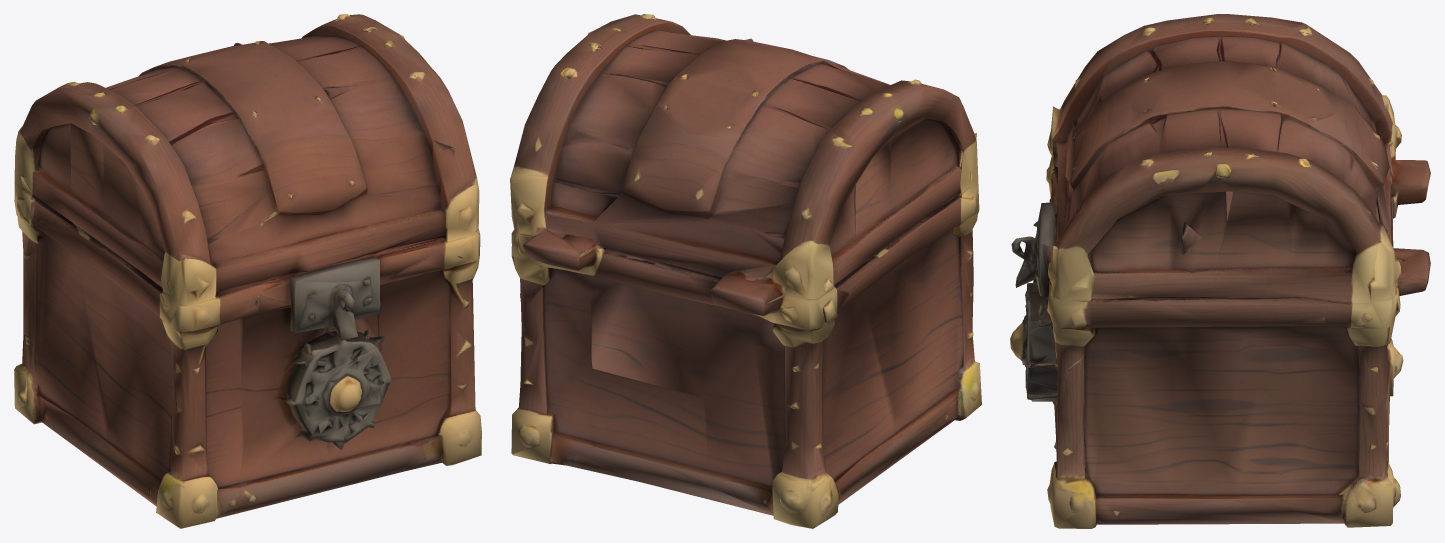
The model's file is chest.glb.
3 views of the same model, side by side, from view 1: azimuth 30°, elevation 25°; view 2: azimuth 150°, elevation 25°; view 3: azimuth 270°, elevation 25° (orthographic).
Bounding box in the file's own units: 1.76 × 1.95 × 2.
1 material, 1 textured.
